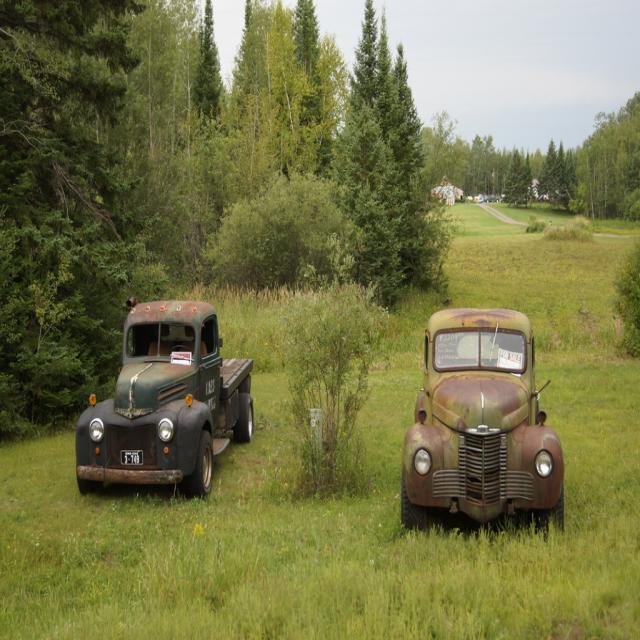bicycle: (72, 296, 258, 516), (396, 309, 564, 538)
